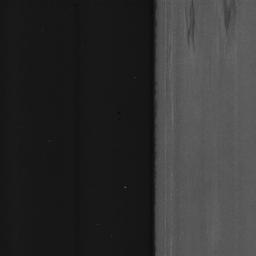Silk spot: (220, 0, 237, 56), (185, 0, 195, 52)
